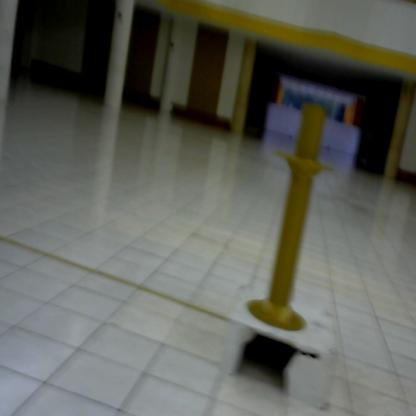pole: (240, 95, 346, 340)
